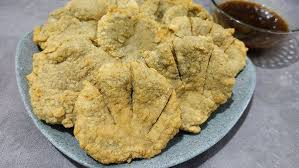Pempek kulit: (73, 64, 189, 162), (153, 39, 240, 127), (24, 34, 100, 130), (94, 8, 169, 66)
